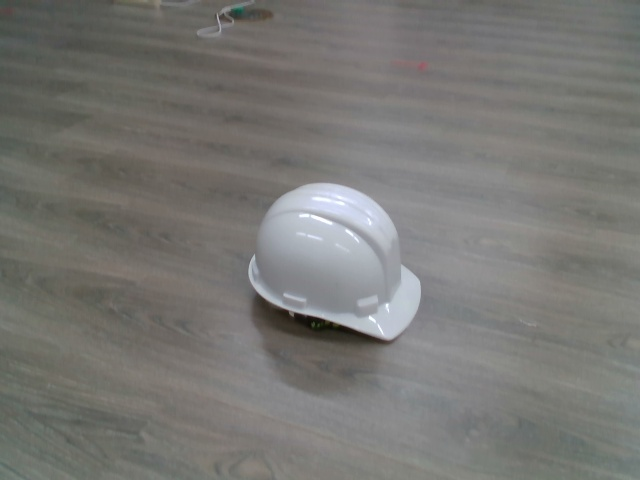helmet: (245, 179, 427, 347)
